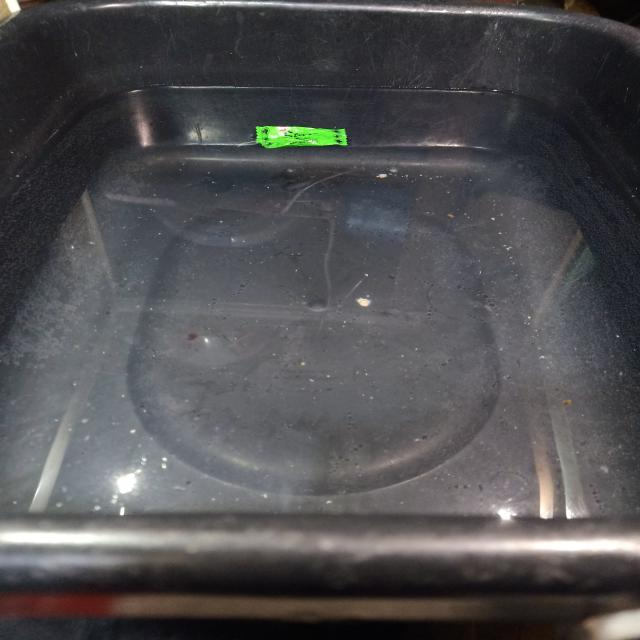Plastic Wrapper: (255, 126, 348, 149)
